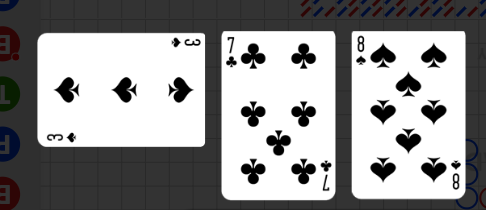3S: (45, 130, 79, 144)
7C: (224, 35, 239, 70)
8S: (449, 157, 462, 191)
